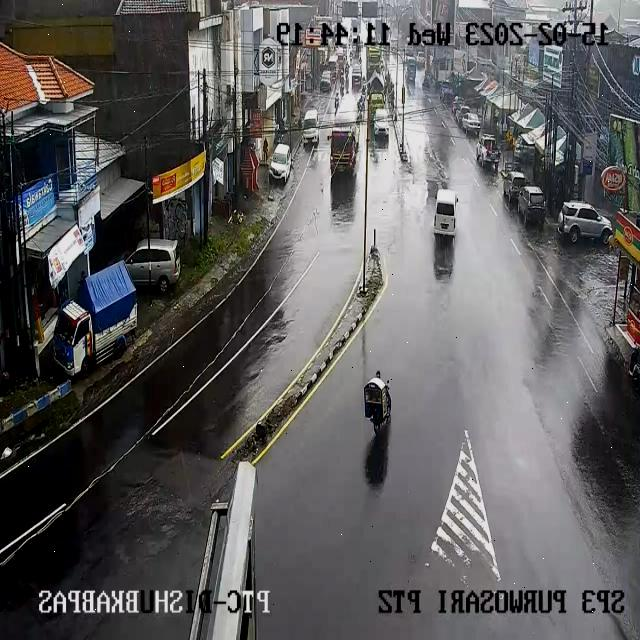Car: (127, 238, 182, 294), (557, 200, 612, 244), (516, 186, 548, 227), (432, 193, 456, 238), (475, 133, 501, 168), (501, 170, 527, 203), (270, 144, 292, 182), (302, 108, 320, 143), (368, 92, 386, 123), (461, 112, 481, 134), (374, 109, 390, 136), (454, 105, 471, 125), (406, 56, 418, 83), (350, 64, 362, 86), (320, 71, 332, 92), (328, 55, 339, 72), (416, 51, 426, 66), (335, 47, 345, 61)
Motorbike: (363, 367, 392, 437), (334, 92, 340, 108)
Truck: (54, 260, 136, 379), (329, 97, 360, 171), (368, 76, 387, 113), (365, 48, 382, 73)
